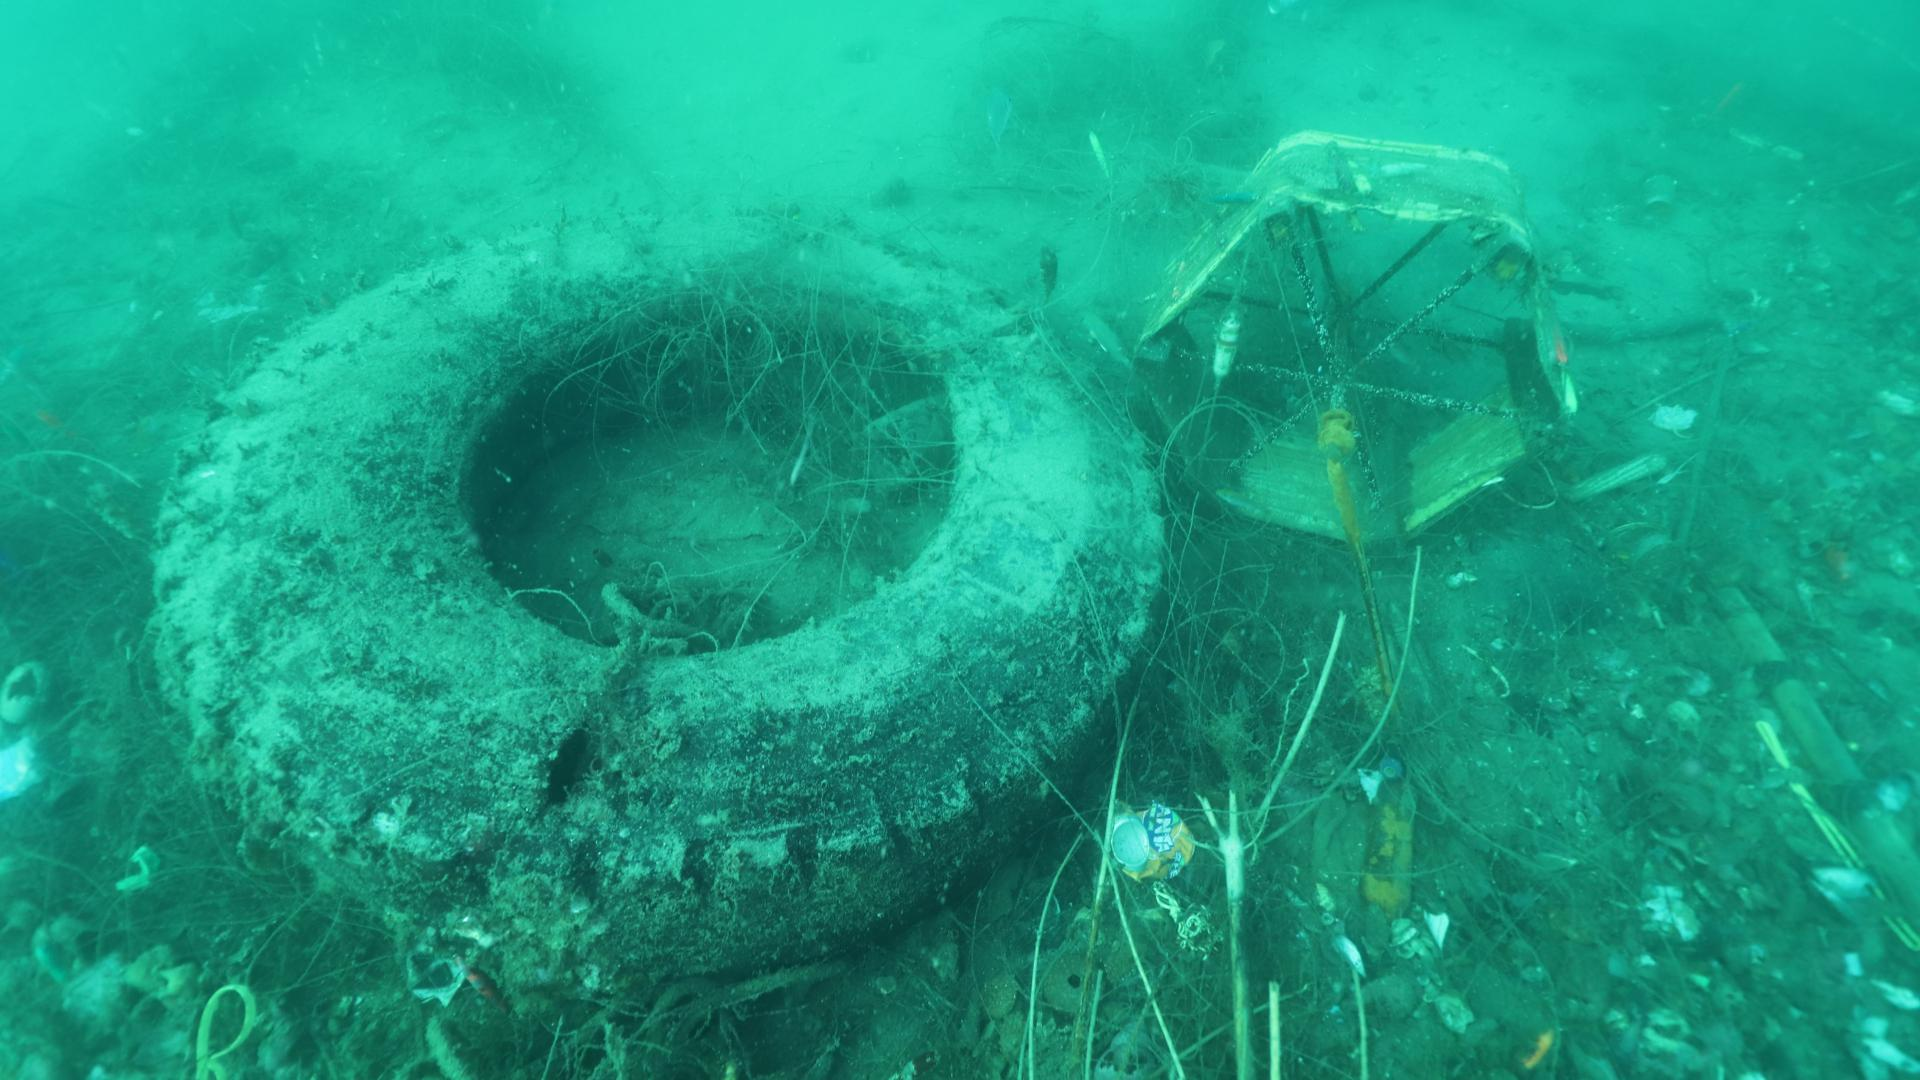tire: (141, 206, 1156, 978)
